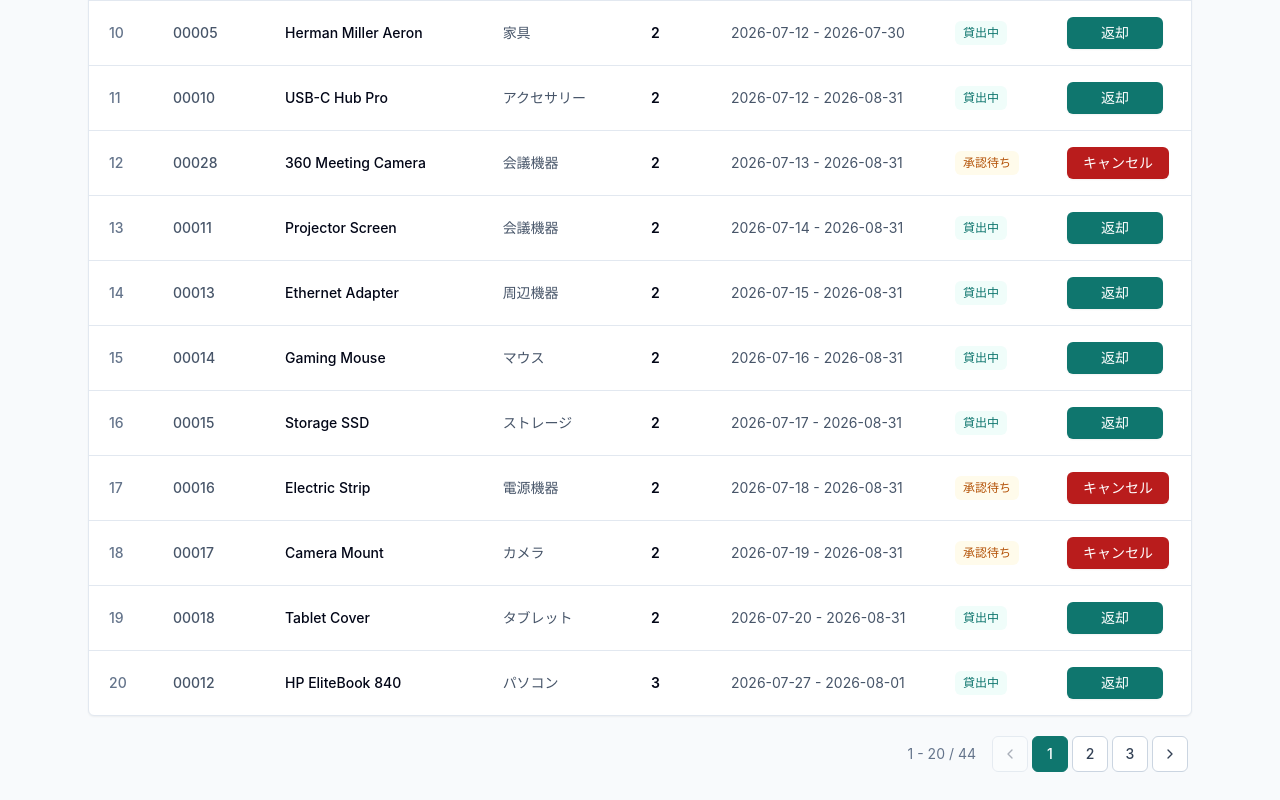
Scenario: MyLoanRequestPage › 040: 2ページ目の次のページで3ページ目を表示する
This screenshot has width=1280, height=800.
(page scrolled)
Click the button "2" at (1090, 754), box [1072,736,1108,772]
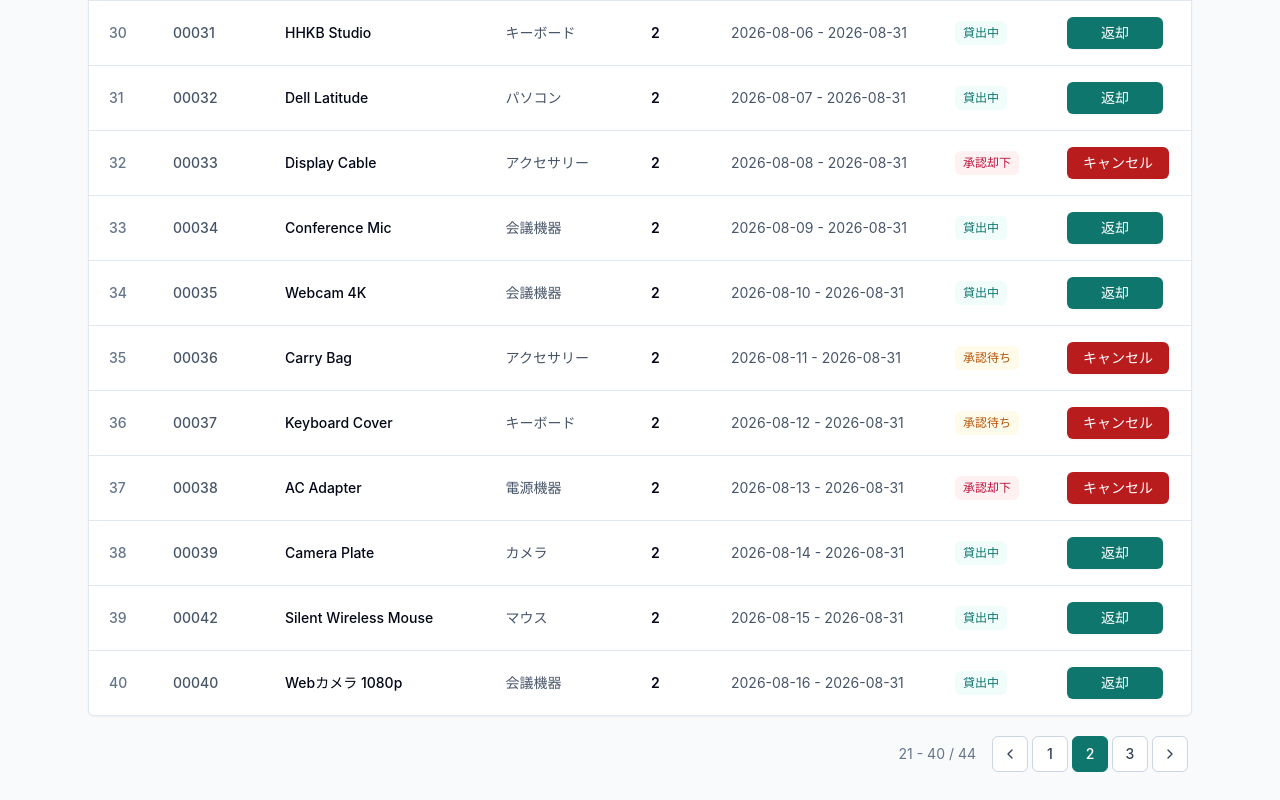
Click the button named "次のページ" at (1170, 754), box [1152,736,1188,772]
(page scrolled)
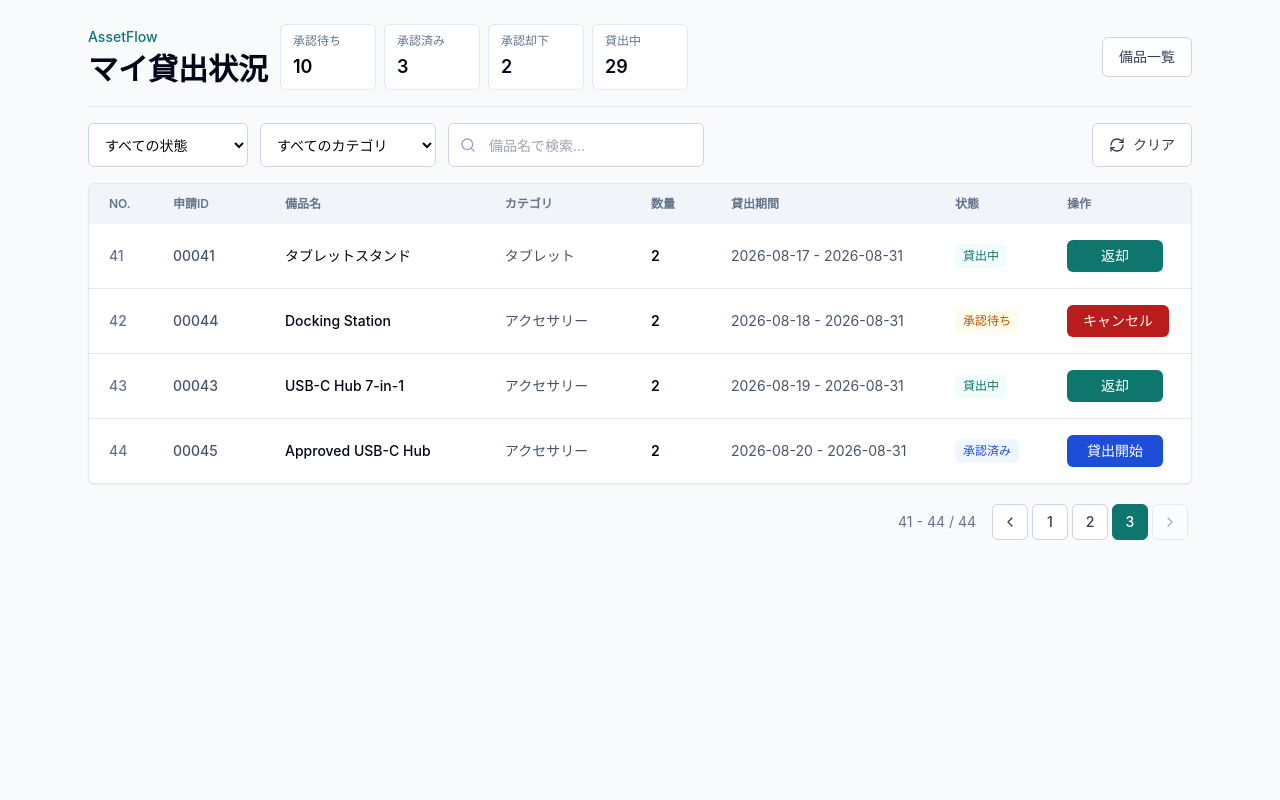
Expected: the row "41 00041 タブレットスタンド タブレット 2 2026-08-17 - 2026-08-31 貸出中 返却" is shown, [89,224,1191,288]
Expected: the row that starts with "Approved USB-C Hub" is shown, [285,442,430,459]
Expected: the text "41 - 44 / 44" is shown, [898,512,976,532]
